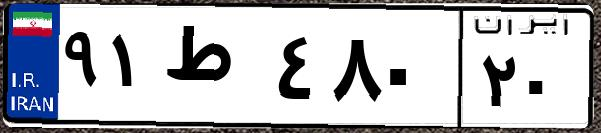0: (385, 28, 445, 110), (525, 38, 570, 115)
1: (110, 28, 158, 98)
2: (475, 38, 525, 113)
4: (270, 28, 330, 110)
8: (330, 28, 385, 110)
9: (57, 26, 110, 100)
ط: (158, 20, 270, 120)
